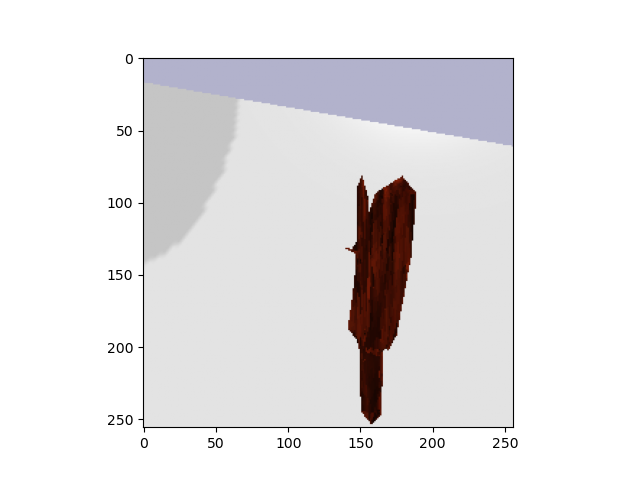v249b387_107: (336, 174, 429, 421)
